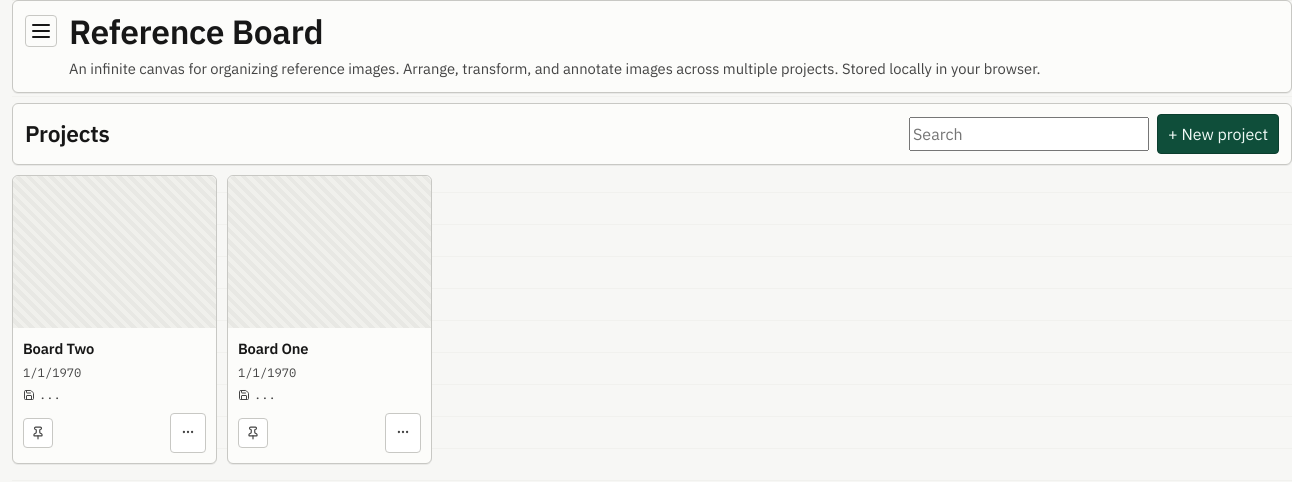
Scenario: ReferenceBoardPage › filters projects by text-layer content
Type "shadow" into the search field named "search projects".
click(1029, 134); type("shadow")  # box 909,117 -> 1149,151
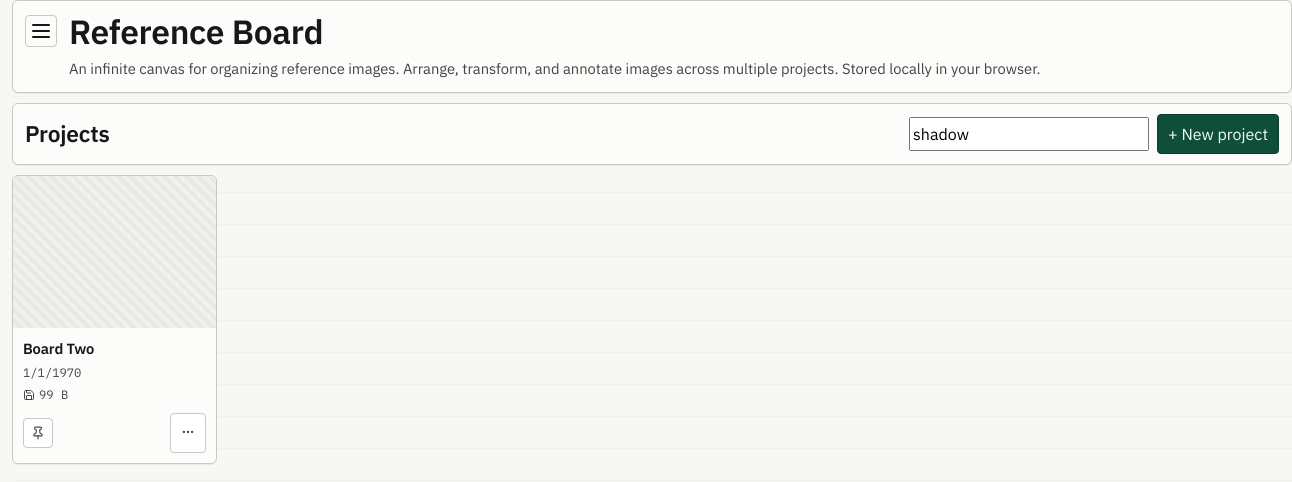
Expected: the heading "Board Two" is shown, 23,338 -> 94,360
Expected: the heading "Board One" is gone
